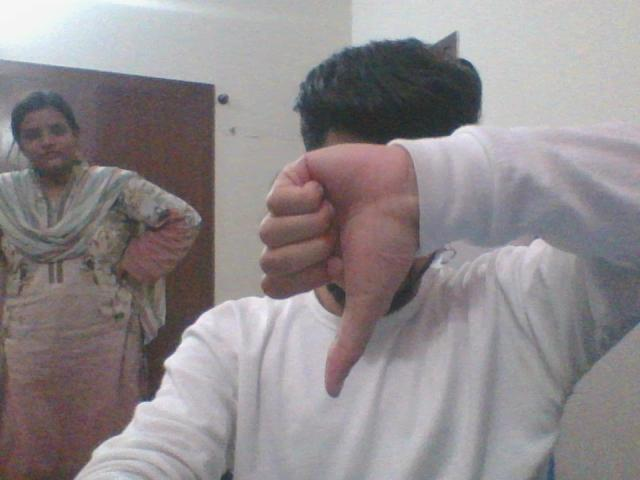thumbs-down: (249, 160, 410, 401)
